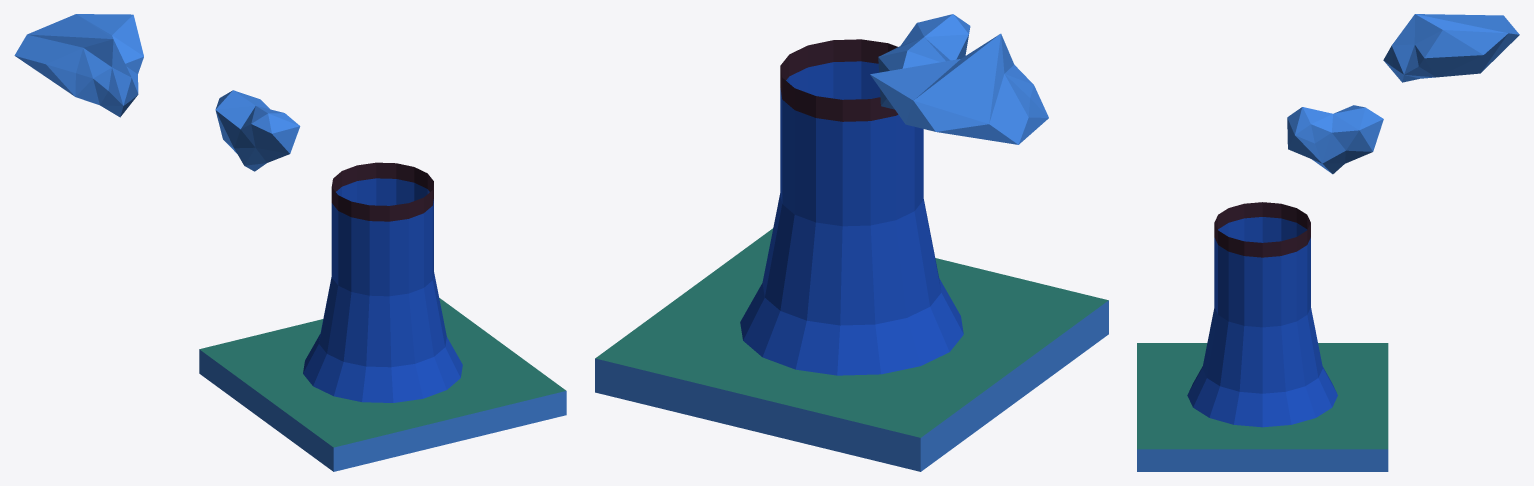
File: building_nuclear.fbx
3 renders of one model, left to right at view 1: azimuth 30°, elevation 25°; view 2: azimuth 150°, elevation 25°; view 3: azimuth 270°, elevation 25°, orthographic. The views are drawn at different scales.
Visible parts, largest first — view 1: nuclear plant; view 2: nuclear plant; view 3: nuclear plant.
Boxes of the visible parts, x1,y1,x2,y2 form: nuclear plant: (14,14,566,471); nuclear plant: (595,14,1108,471); nuclear plant: (1137,14,1519,471).
Size of the model in its own units: 77.36 by 70.07 by 76.18.
